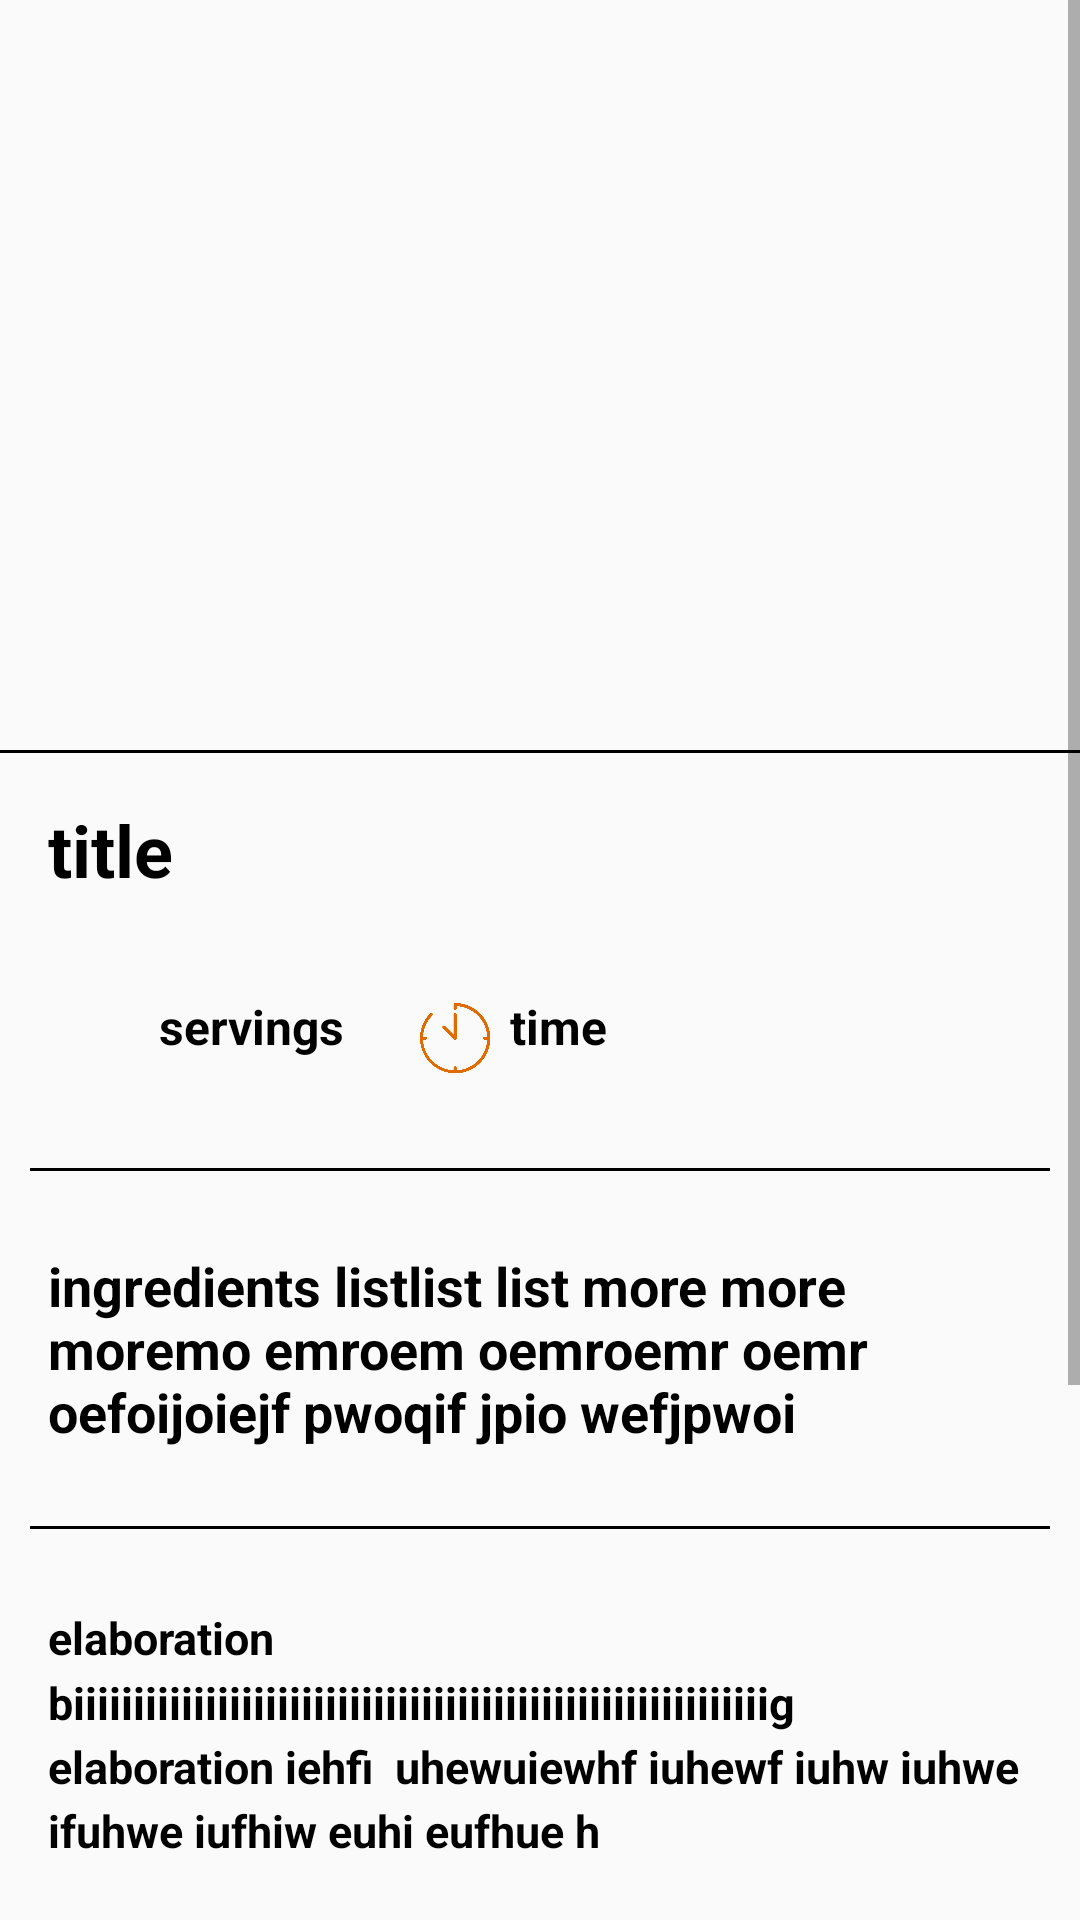

Named icons in this screenshot (1080px x 1920px) and their centers, (x=x, y=y):
clock: (x=455, y=1038)
